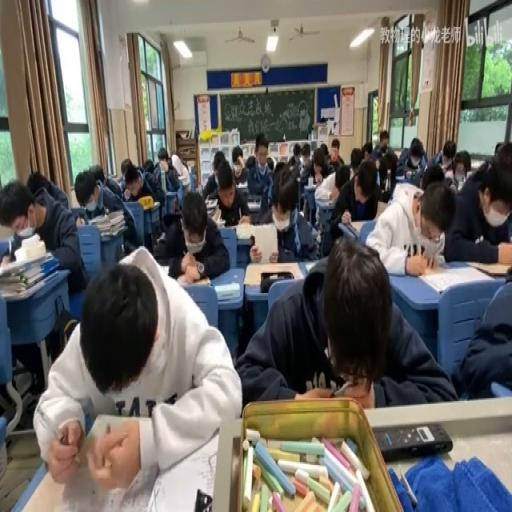calculator: (149, 428, 222, 511), (418, 264, 491, 294), (243, 260, 300, 286), (176, 270, 209, 286), (213, 282, 241, 300), (337, 219, 355, 240), (99, 220, 125, 234), (303, 184, 317, 206), (234, 224, 252, 240), (138, 196, 160, 209), (374, 198, 388, 216), (16, 224, 34, 238), (210, 205, 224, 222), (204, 194, 218, 208), (304, 258, 318, 272), (156, 263, 170, 276), (247, 200, 262, 212), (88, 213, 105, 222), (176, 171, 189, 182), (236, 180, 248, 190), (326, 198, 335, 206), (395, 174, 405, 180)
paper: (35, 244, 240, 484), (236, 236, 454, 410), (0, 173, 83, 306), (443, 148, 511, 263), (151, 186, 227, 280), (326, 155, 382, 253), (267, 168, 321, 263), (243, 132, 275, 222), (150, 148, 182, 196), (394, 135, 426, 179), (305, 142, 334, 182), (94, 164, 122, 200), (226, 145, 246, 188), (378, 150, 396, 196), (419, 159, 444, 191), (434, 138, 456, 171), (138, 168, 156, 202), (25, 168, 46, 196), (286, 140, 302, 170), (452, 149, 470, 175), (334, 165, 348, 195), (349, 146, 362, 176), (211, 151, 224, 175), (273, 160, 288, 178), (362, 139, 372, 161), (120, 158, 130, 176), (142, 158, 154, 173), (443, 170, 453, 188), (301, 142, 310, 161), (245, 155, 254, 171), (494, 142, 503, 155), (380, 135, 387, 148), (266, 155, 272, 169), (331, 145, 339, 155)
person: (374, 422, 452, 461), (193, 488, 212, 512), (161, 212, 180, 229), (267, 250, 278, 263), (249, 233, 254, 246), (406, 168, 411, 178)
